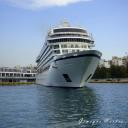cruises: (35, 20, 104, 92)
